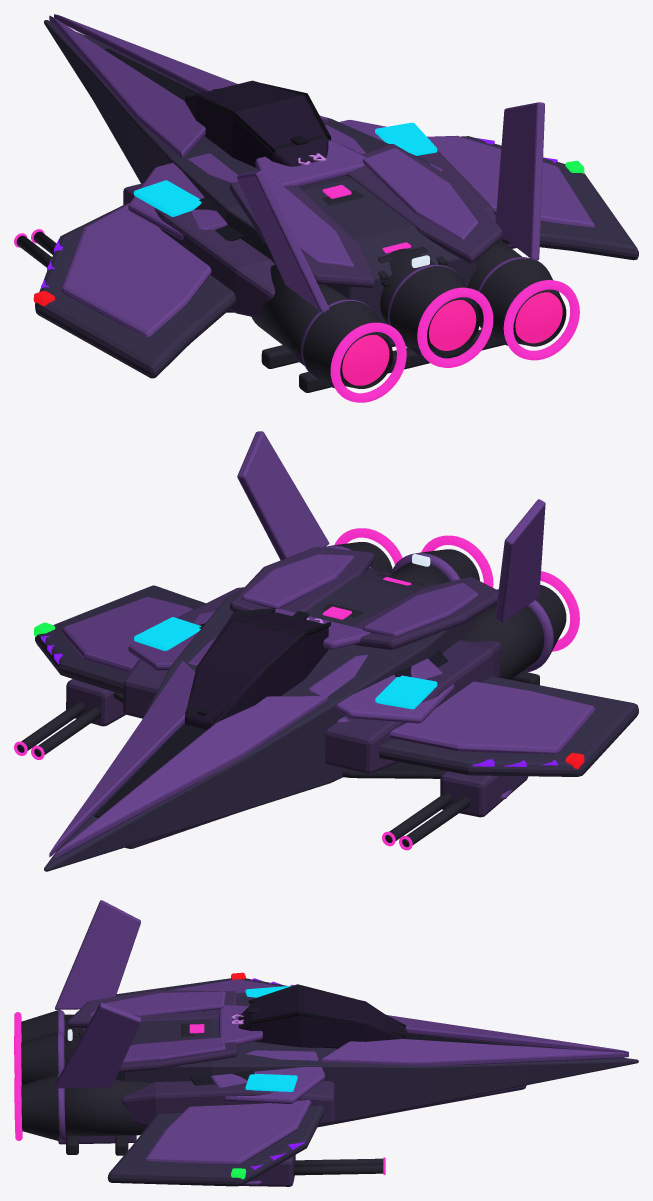
File: raider2.glb
3 renders of one model, top to bottom at view 1: azimuth 30°, elevation 25°; view 2: azimuth 150°, elevation 25°; view 3: azimuth 270°, elevation 25°, orthographic. The views are drawn at different scales.
Parts seen in each view (by area): view 1: Static_Raider2VioletArmor, Static_Raider2Hull, Static_EngineIron, Static_Raider2DarkArmor, Canopy, Static_SystemsGlow, Static_Raider2Recess, AfterburnerL, AfterburnerC, AfterburnerR, ThrusterR, ThrusterL (+2 smaller); view 2: Static_Raider2VioletArmor, Static_Raider2Hull, Static_Raider2DarkArmor, Static_EngineIron, Canopy, Static_Raider2Recess, Static_SystemsGlow, AfterburnerL, AfterburnerC, Static_AfterburnerGlow, AfterburnerR; view 3: Static_Raider2VioletArmor, Static_Raider2Hull, Static_EngineIron, Static_Raider2DarkArmor, Canopy, Static_Raider2Recess, Static_SystemsGlow, AfterburnerR.
Part boxes in pixels (left/top/right/bottom): Static_Raider2VioletArmor: left=49, top=14, right=594, bottom=379; Static_Raider2Hull: left=35, top=20, right=638, bottom=378; Static_EngineIron: left=16, top=190, right=566, bottom=392; Static_Raider2DarkArmor: left=123, top=144, right=516, bottom=388; Canopy: left=185, top=80, right=328, bottom=167; Static_SystemsGlow: left=133, top=122, right=437, bottom=216; Static_Raider2Recess: left=104, top=48, right=390, bottom=286; AfterburnerL: left=330, top=322, right=406, bottom=402; AfterburnerC: left=417, top=287, right=493, bottom=367; AfterburnerR: left=503, top=280, right=579, bottom=360; ThrusterR: left=515, top=292, right=562, bottom=343; ThrusterL: left=342, top=335, right=389, bottom=385; Static_Raider2VioletArmor: left=49, top=431, right=594, bottom=858; Static_Raider2Hull: left=35, top=568, right=638, bottom=871; Static_Raider2DarkArmor: left=66, top=547, right=528, bottom=848; Static_EngineIron: left=17, top=542, right=566, bottom=847; Canopy: left=185, top=612, right=328, bottom=729; Static_Raider2Recess: left=94, top=603, right=448, bottom=817; Static_SystemsGlow: left=134, top=617, right=437, bottom=709; AfterburnerL: left=540, top=571, right=579, bottom=651; AfterburnerC: left=421, top=535, right=493, bottom=587; Static_AfterburnerGlow: left=14, top=577, right=412, bottom=850; AfterburnerR: left=334, top=528, right=402, bottom=564; Static_Raider2VioletArmor: left=55, top=900, right=628, bottom=1185; Static_Raider2Hull: left=81, top=978, right=638, bottom=1186; Static_EngineIron: left=21, top=1010, right=383, bottom=1175; Static_Raider2DarkArmor: left=58, top=990, right=526, bottom=1186; Canopy: left=238, top=987, right=406, bottom=1048; Static_Raider2Recess: left=190, top=984, right=525, bottom=1085; Static_SystemsGlow: left=245, top=985, right=297, bottom=1091; AfterburnerR: left=14, top=1075, right=22, bottom=1140.
Bounding box in the file's own units: 7.07 × 2.76 × 9.25.
